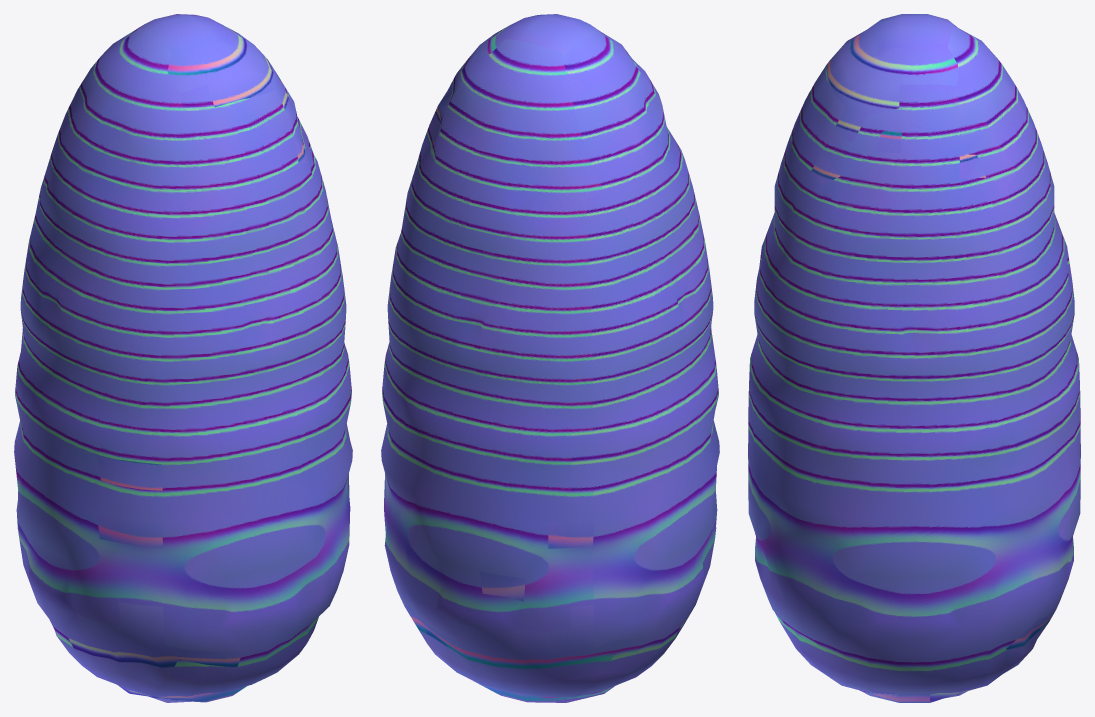
Rendered from m_StoneGreen_LOD0.fbx.
3 views of the same model, side by side, from view 1: azimuth 30°, elevation 25°; view 2: azimuth 150°, elevation 25°; view 3: azimuth 270°, elevation 25° (orthographic).
Parts seen in each view (by area): view 1: StoneGreen_LOD0; view 2: StoneGreen_LOD0; view 3: StoneGreen_LOD0.
Part boxes in pixels (bbox=[...]): StoneGreen_LOD0: bbox=[14, 14, 352, 702]; StoneGreen_LOD0: bbox=[381, 14, 719, 702]; StoneGreen_LOD0: bbox=[748, 14, 1080, 702].
Size of the model in its own units: 32.47 by 71.42 by 32.47.
